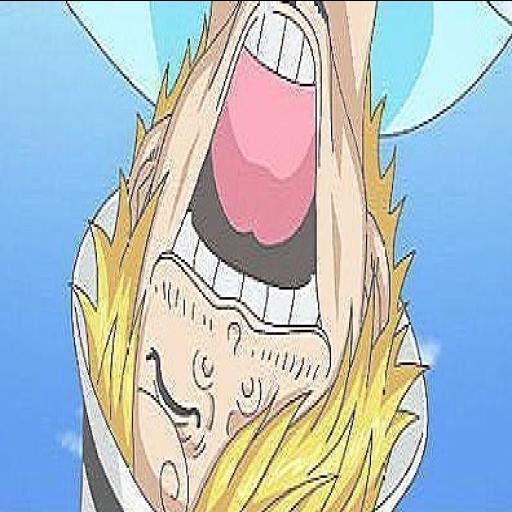sanji: (62, 3, 483, 512)
